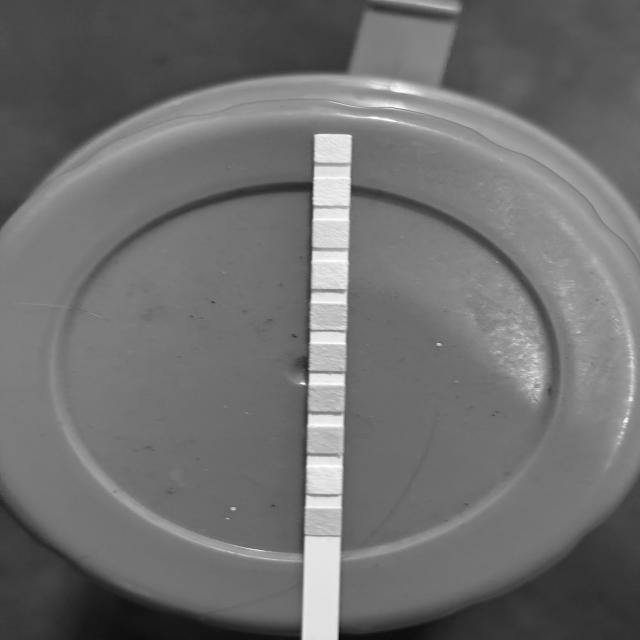Bilirubin: (308, 467, 340, 493)
Blood: (311, 346, 344, 370)
Glucose: (307, 509, 340, 535)
Ketone: (309, 428, 341, 452)
Leukocytes: (315, 135, 350, 161)
Nitrite: (314, 180, 350, 206)
Protein: (312, 263, 347, 288)
SpGravity: (309, 386, 342, 411)
Urobilinogen: (314, 221, 348, 248)
background: (0, 0, 640, 640)
pH: (312, 306, 345, 330)
strip: (303, 133, 351, 640)
